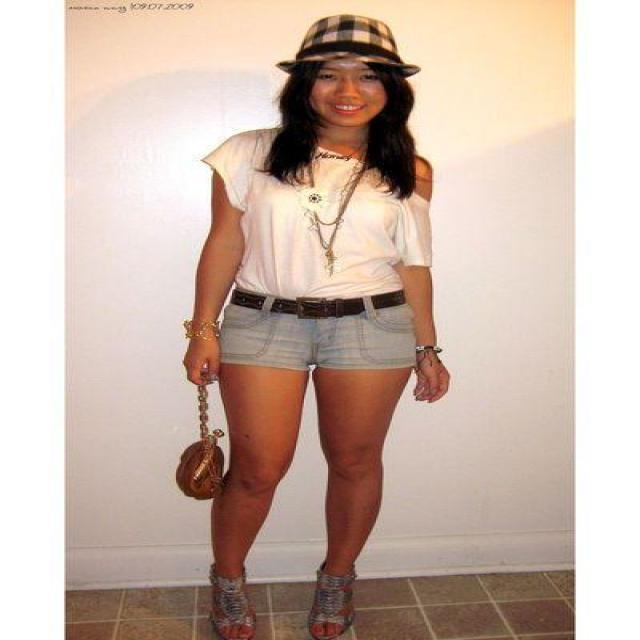bag: (176, 397, 235, 498)
hat: (277, 15, 419, 84)
shirt: (200, 115, 430, 300)
shoe: (196, 579, 354, 639)
shorts: (218, 295, 432, 370)
